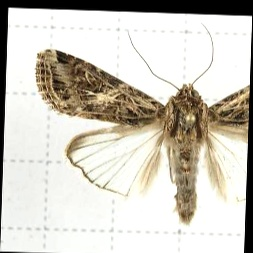Spodoptera litura: (31, 19, 248, 224)
